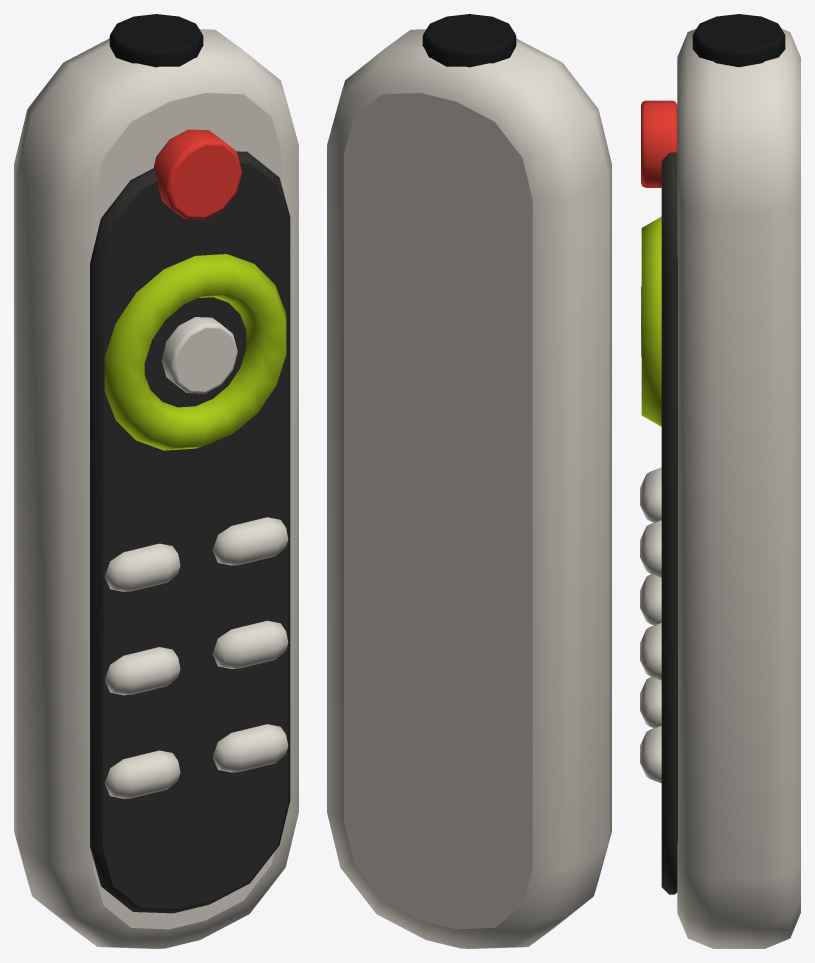
File: remote.glb
The picture shows the model from 3 angles, left to right: view 1: azimuth 30°, elevation 25°; view 2: azimuth 150°, elevation 25°; view 3: azimuth 270°, elevation 25°; orthographic projection.
Parts seen in each view (by area): view 1: remote-root, remote-power; view 2: remote-root; view 3: remote-root, remote-power.
Boxes of the visible parts, x1=… form: remote-root: x1=14, y1=14, x2=298, y2=948; remote-power: x1=153, y1=129, x2=241, y2=219; remote-root: x1=327, y1=14, x2=611, y2=948; remote-root: x1=640, y1=14, x2=800, y2=948; remote-power: x1=641, y1=100, x2=677, y2=187.
Size of the model in its own units: 0.056 by 0.192 by 0.0312.
